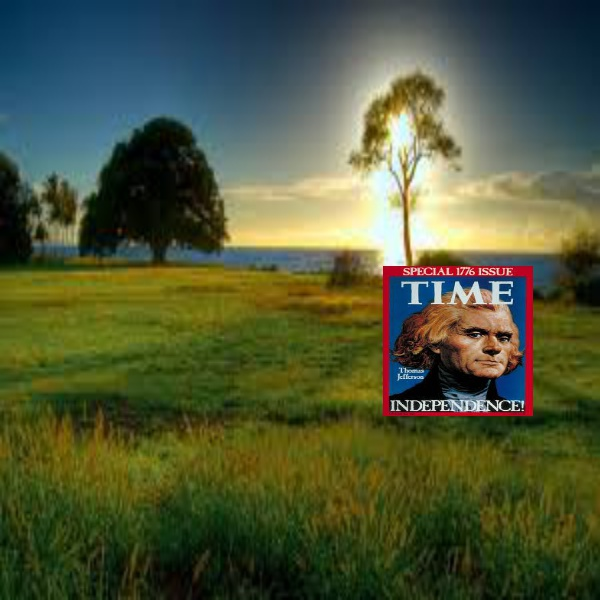time_cover: (367, 258, 541, 430)
